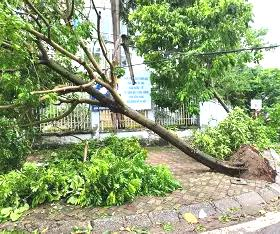ROAD_OBSTACLE: (3, 2, 277, 232)
